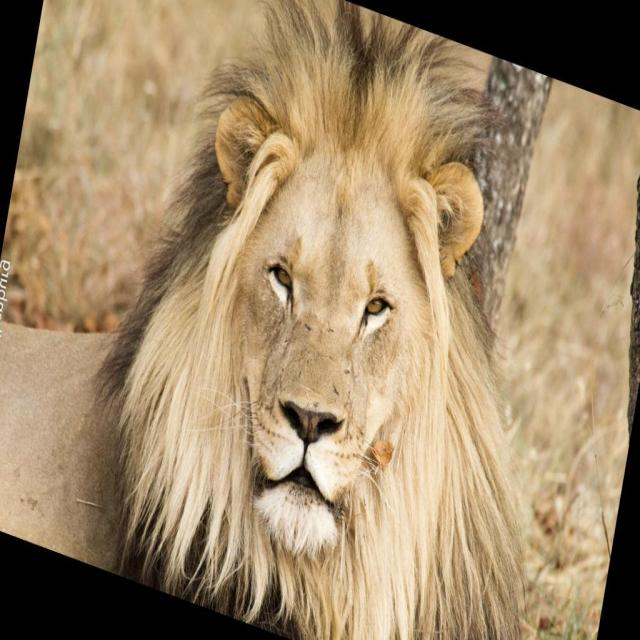Lion: (61, 0, 640, 639)
